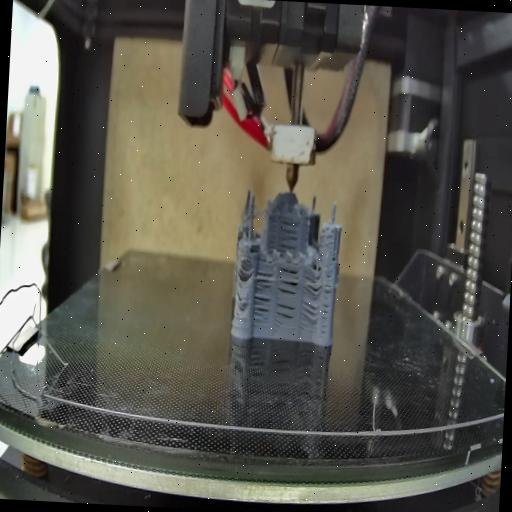cracks: (320, 272, 332, 337), (275, 265, 299, 297), (276, 218, 300, 250), (274, 302, 296, 332), (299, 301, 321, 330), (251, 294, 270, 322), (302, 274, 322, 300), (254, 267, 274, 293), (234, 288, 250, 314), (236, 264, 252, 284), (328, 251, 338, 265)
